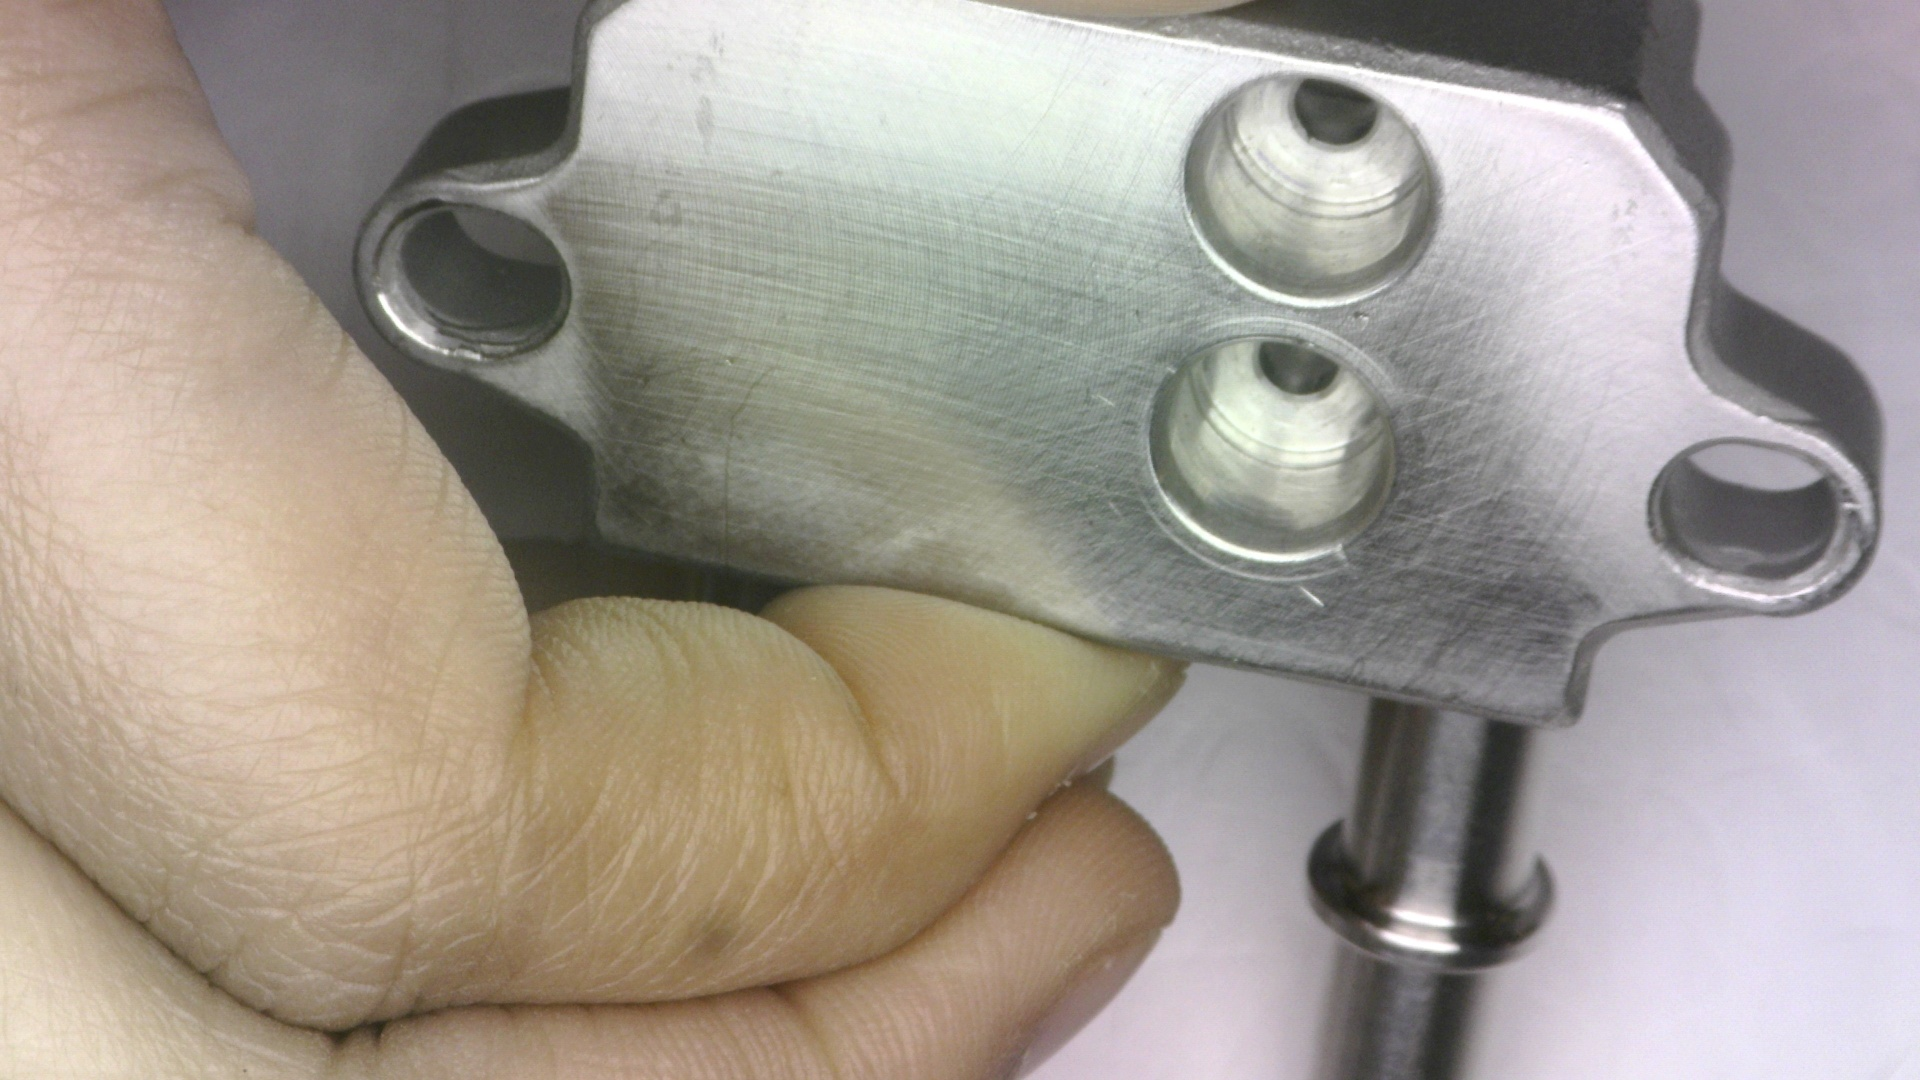chamfer_presence: (687, 488, 1112, 753)
